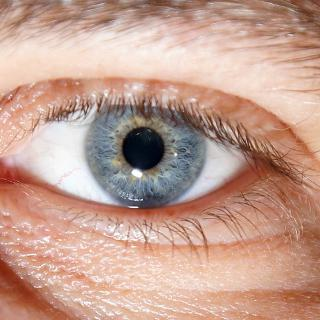pupil: (121, 128, 165, 172)
